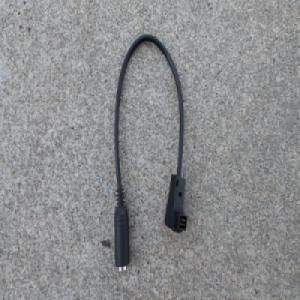Wire: (113, 32, 189, 274)
